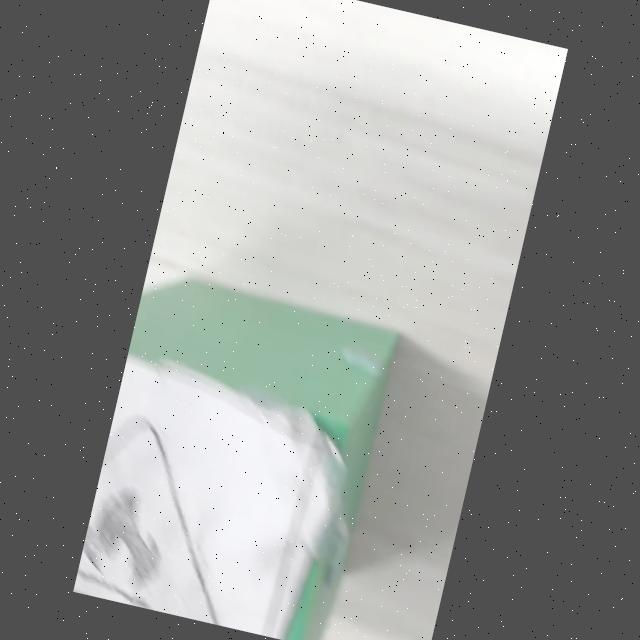Fire: (73, 415, 220, 625)
